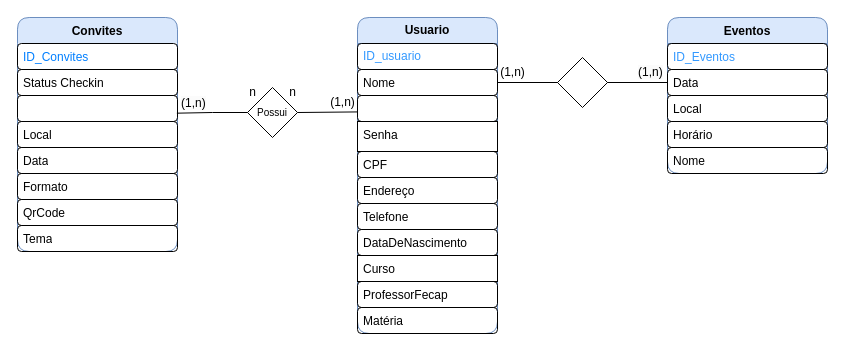
Image size: 845x354. Some labels were removed from this diagram. Here are the shapes that lost their labels. From the top down, the centre of each, then its label:
At point 582,82: "Participa".
At point 97,108: "Status Checkout".
At point 427,108: "Email".
